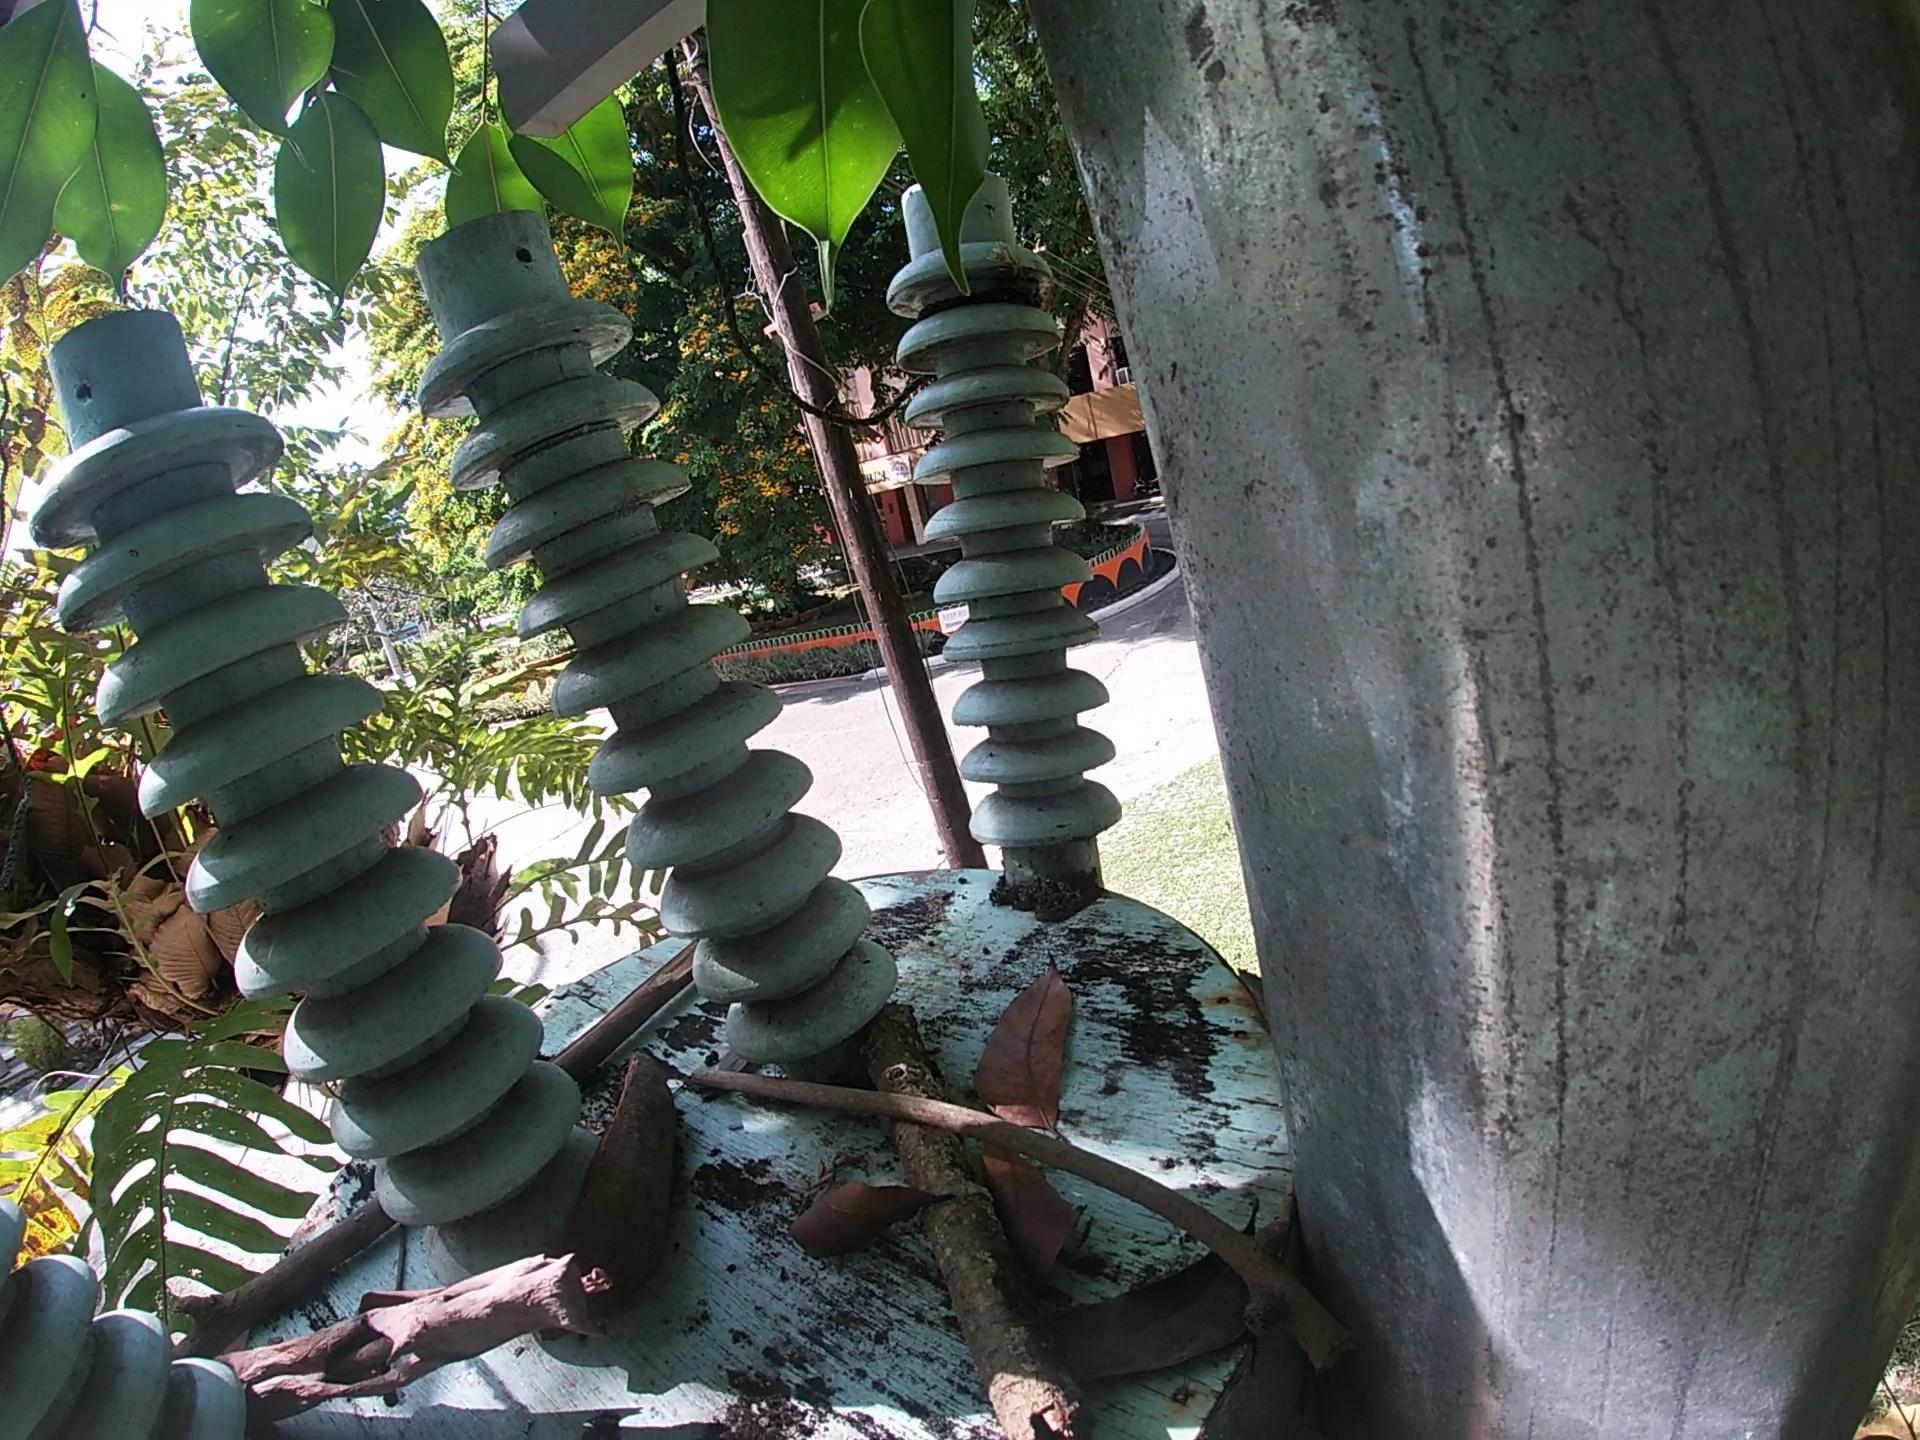leaf: (1042, 1187, 1271, 1387), (971, 950, 1095, 1145), (974, 1133, 1089, 1301), (776, 1168, 955, 1268)
mahogany fruit: (538, 1038, 695, 1345)
tree branch: (703, 1054, 1370, 1384), (847, 989, 1102, 1440), (203, 1246, 615, 1426), (157, 1199, 404, 1364), (544, 935, 705, 1082)
